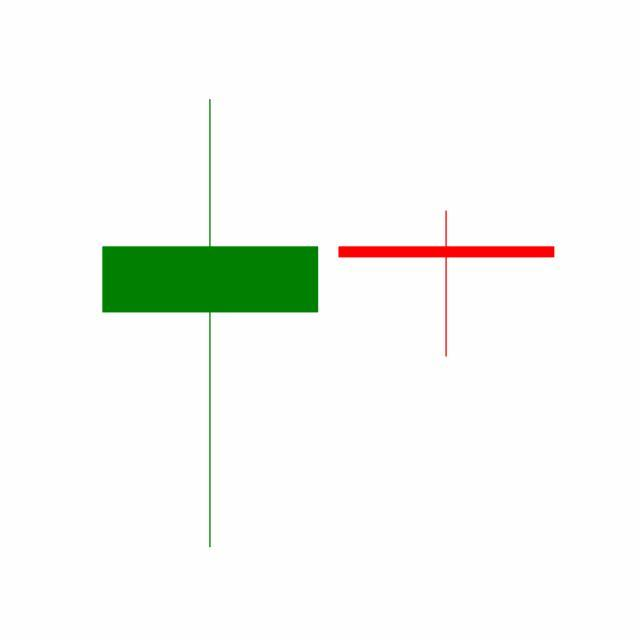Spinning Top: (328, 208, 566, 359)
